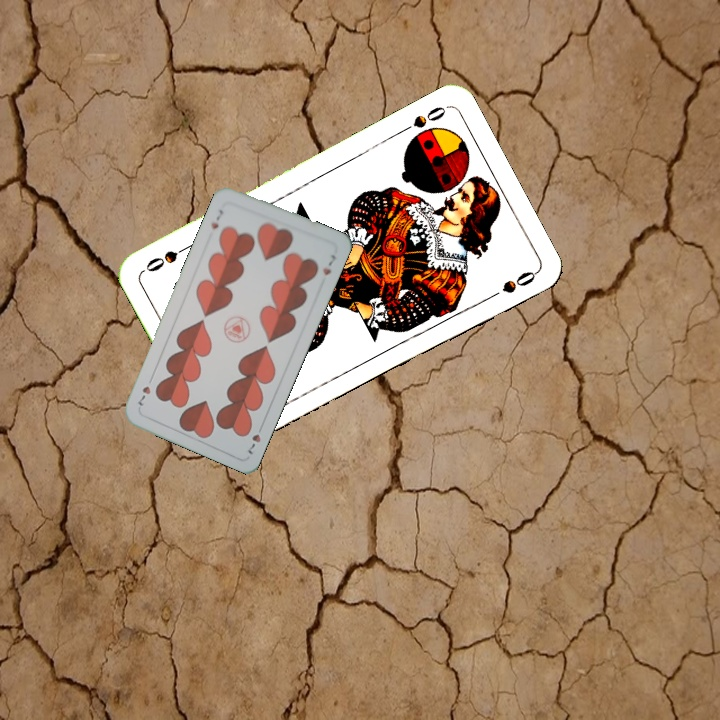H7: (244, 419, 266, 457), (207, 206, 227, 232)
SO: (395, 102, 450, 136)
